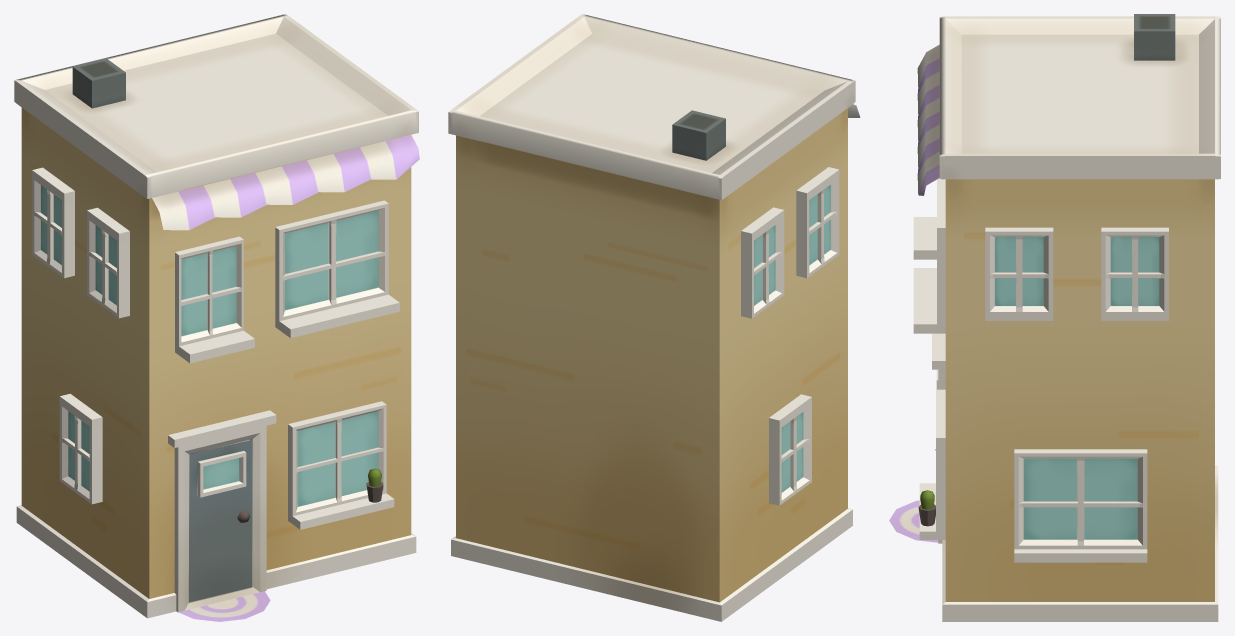
File: house_5_upgrade.fbx
The picture shows the model from 3 angles, left to right: view 1: azimuth 30°, elevation 25°; view 2: azimuth 150°, elevation 25°; view 3: azimuth 270°, elevation 25°; orthographic projection. The views are drawn at different scales.
Visible parts, largest first — view 1: house5_5; view 2: house5_5; view 3: house5_5.
Boxes of the visible parts, left/top/right/bottom form: house5_5: left=14, top=14, right=419, bottom=621; house5_5: left=448, top=14, right=860, bottom=621; house5_5: left=889, top=14, right=1220, bottom=621.
Size of the model in its own units: 5.37 by 8.23 by 5.08.
